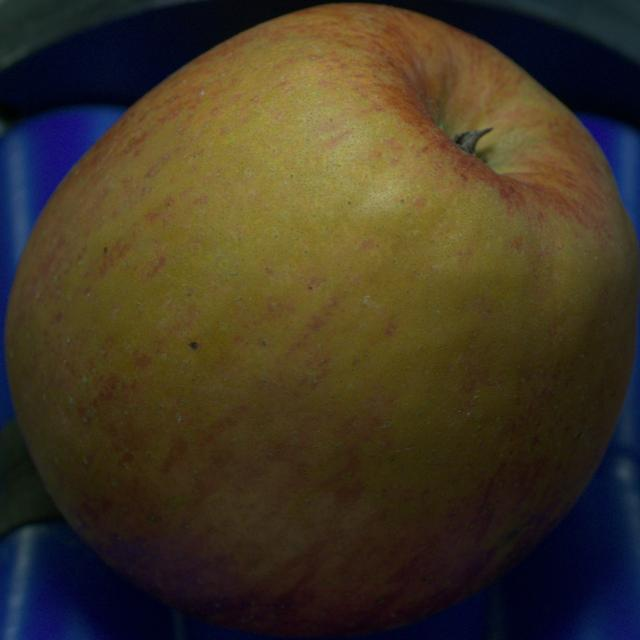apple: (5, 4, 639, 634)
pest: (189, 342, 198, 349), (103, 248, 108, 252)
